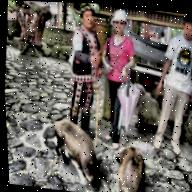boar: (48, 117, 110, 192), (106, 136, 155, 192)
